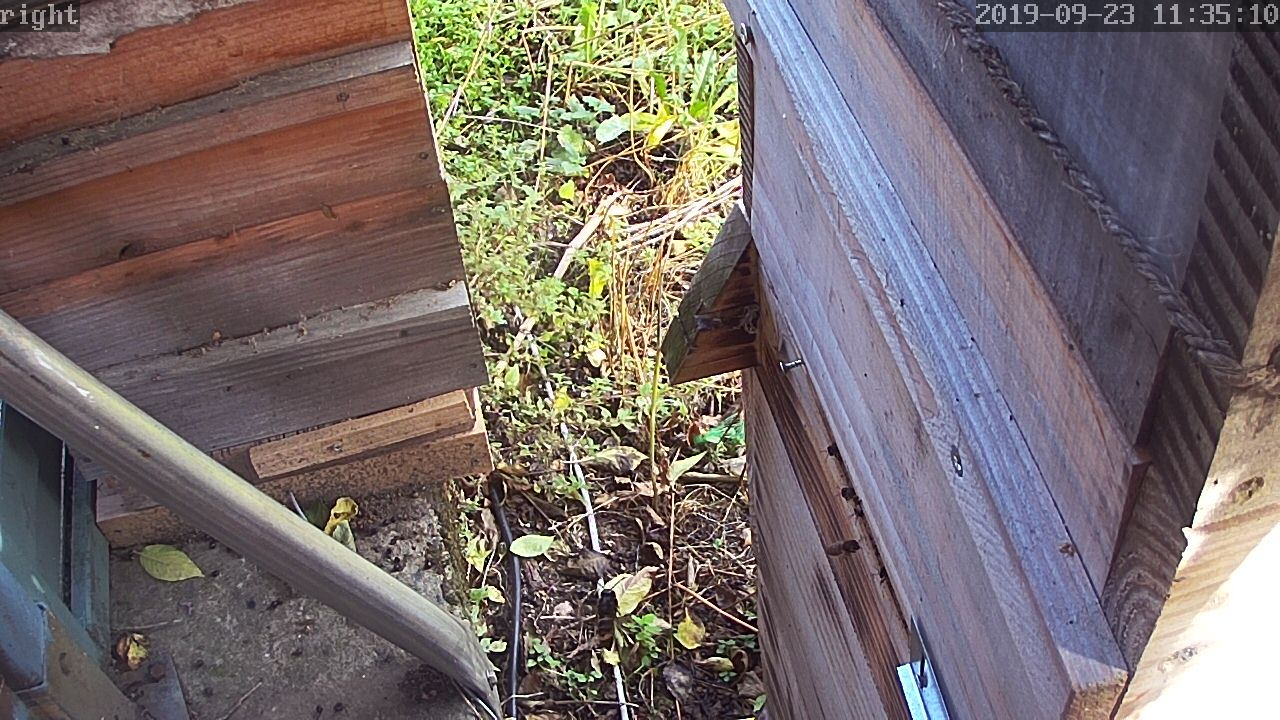bee: (839, 481, 872, 520), (827, 530, 859, 563), (820, 439, 845, 467)
hornet: (586, 584, 626, 659)
